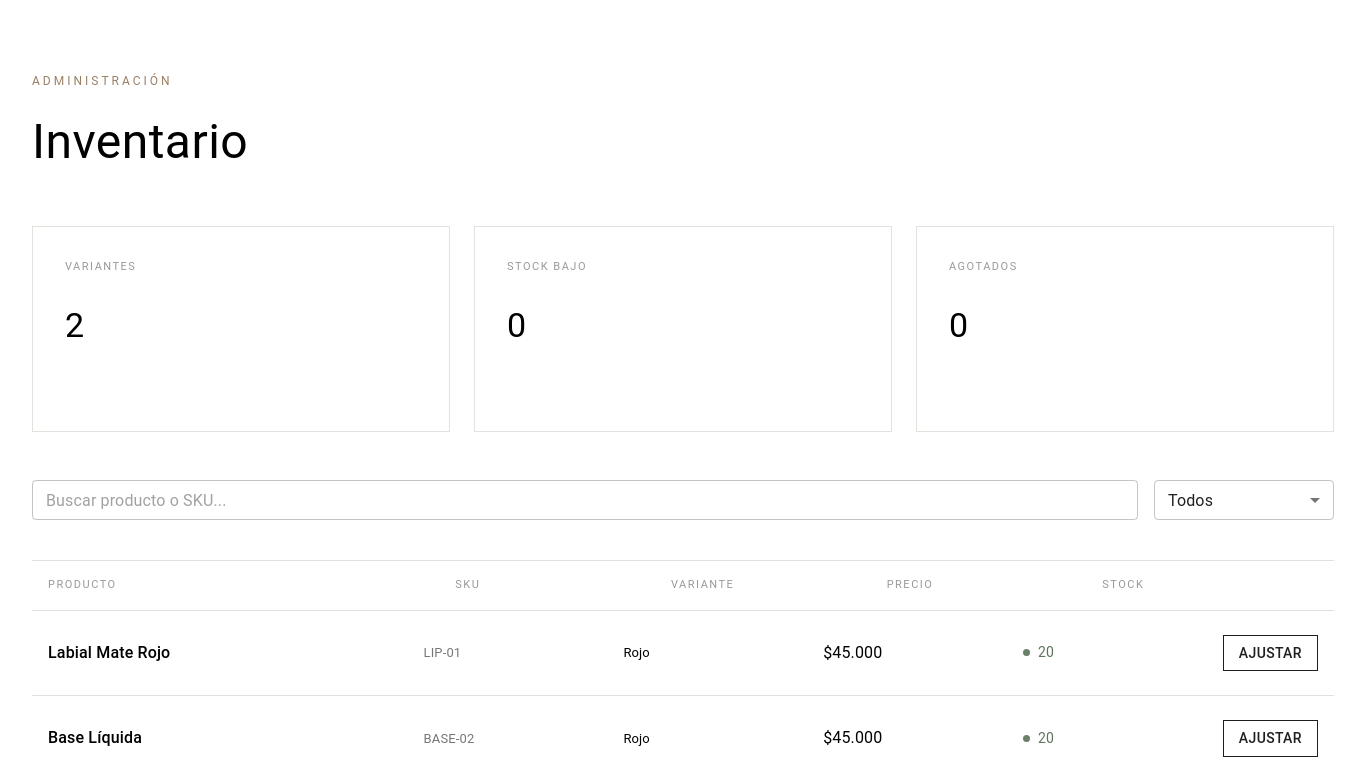
Test: AdminInventory › filters by product name or SKU
Expected: the text "Labial Mate Rojo" is shown, [48,643,170,662]
Expected: the text "Base Líquida" is shown, [48,728,142,747]
Type "base-02" into the field with placeholder "Buscar producto o SKU..." at (585, 500), box [32,480,1138,520]
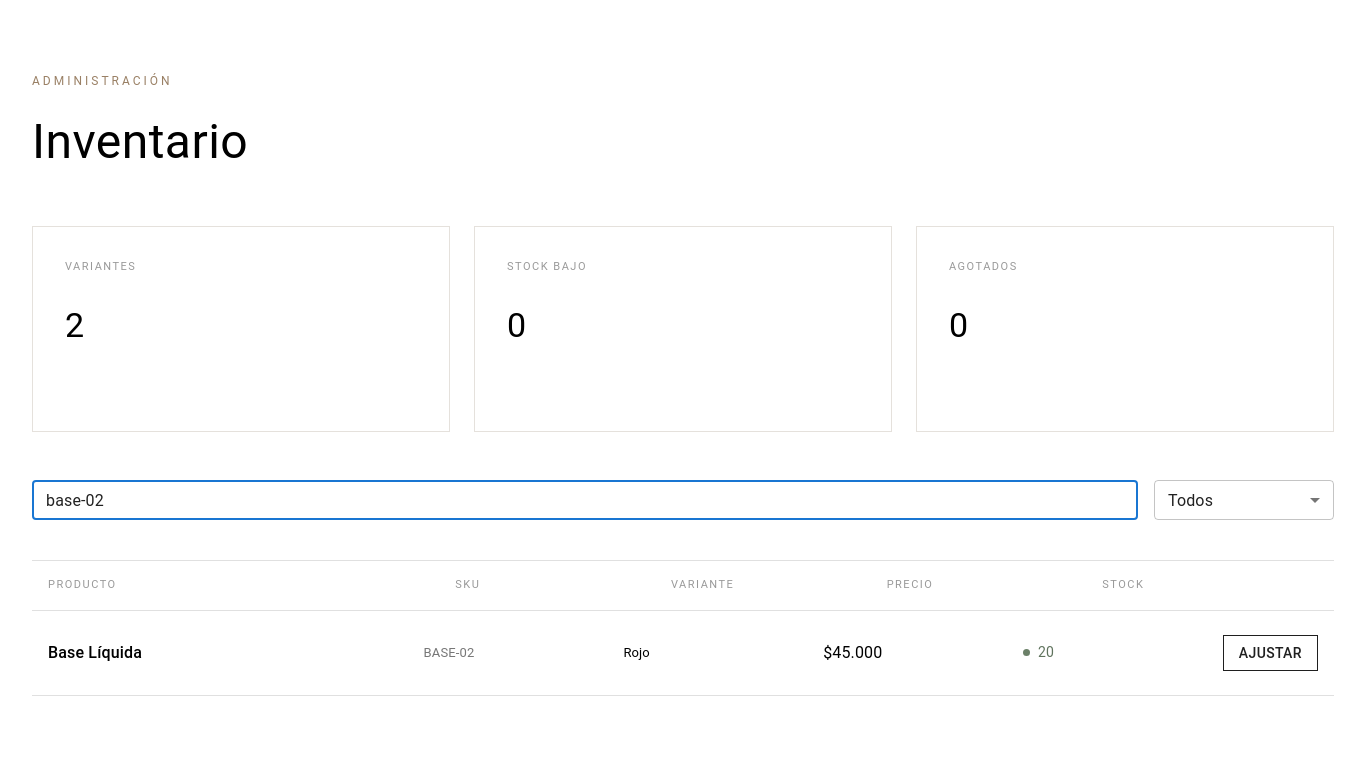
Expected: the text "Base Líquida" is shown, [48,643,142,662]
Expected: the text "Labial Mate Rojo" is gone
